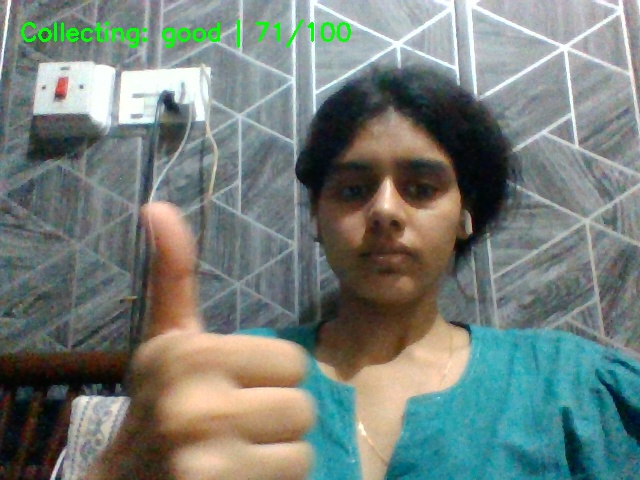good: (77, 177, 420, 480)
